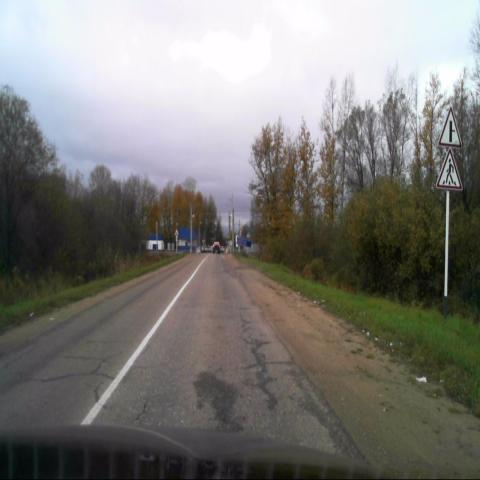2_3_2: (438, 106, 462, 147)
